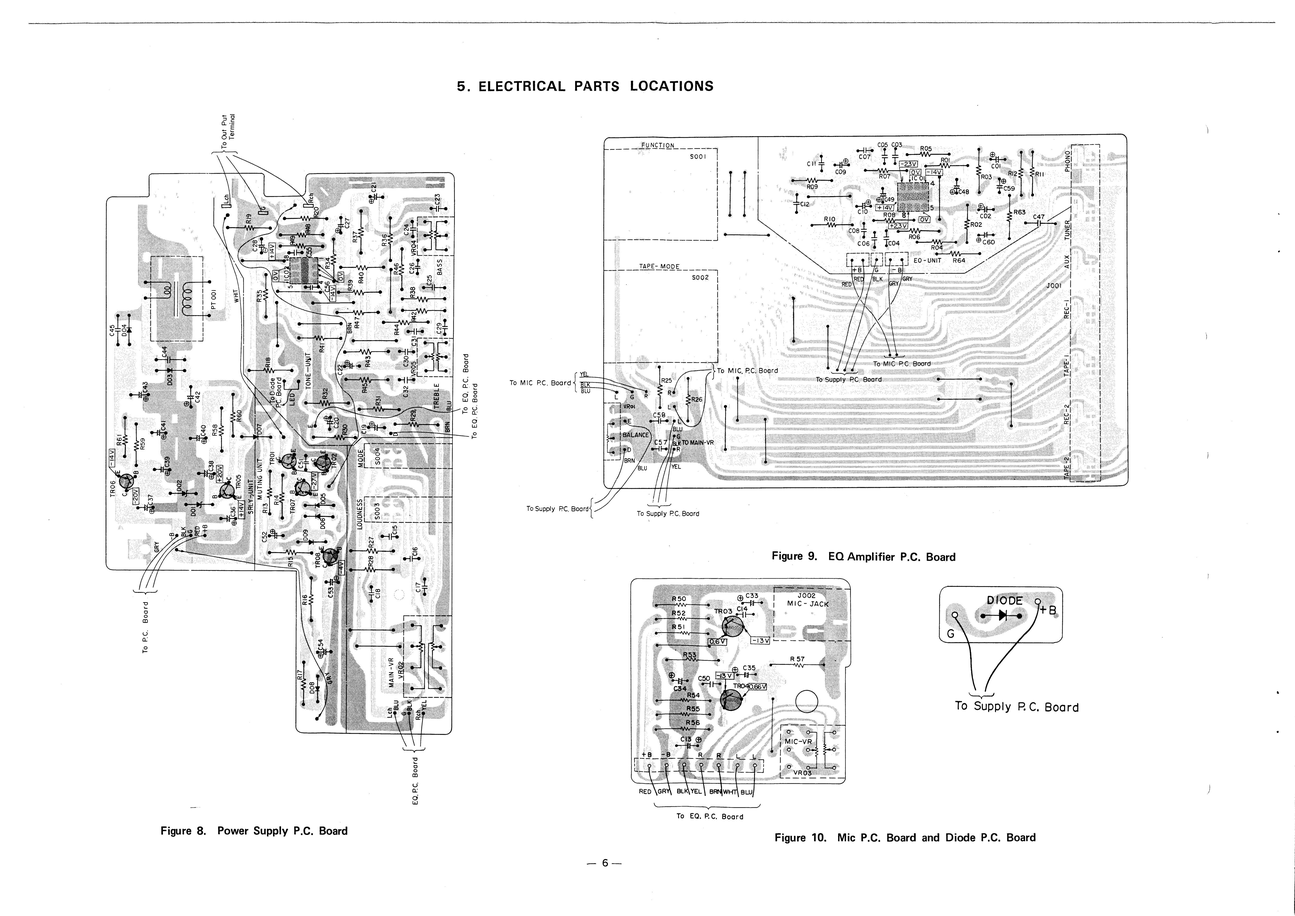C01: (991, 163, 1001, 169)
C02: (980, 212, 992, 219)
C03: (891, 141, 904, 148)
C04: (888, 239, 900, 247)
C05: (877, 141, 888, 148)
C06: (857, 239, 870, 247)
C07: (859, 153, 872, 160)
C08: (847, 228, 860, 234)
C09: (834, 169, 847, 176)
C10: (856, 209, 869, 215)
C11: (806, 159, 817, 167)
C12: (799, 200, 810, 207)
C13: (680, 735, 692, 743)
C14: (736, 605, 748, 612)
C15: (391, 524, 398, 535)
C16: (411, 546, 418, 557)
C17: (414, 581, 422, 593)
C18: (375, 588, 381, 600)
C19: (360, 423, 367, 435)
C20: (333, 417, 340, 429)
C21: (370, 182, 377, 193)
C22: (337, 364, 344, 376)
C23: (434, 193, 440, 206)
C24: (403, 223, 410, 236)
C25: (425, 273, 432, 286)
C26: (408, 262, 415, 275)
C27: (344, 217, 350, 229)
C28: (251, 239, 258, 252)
C29: (435, 322, 442, 335)
C30: (403, 355, 408, 369)
C31: (410, 335, 417, 347)
C32: (403, 385, 409, 399)
C33: (746, 592, 760, 599)
C34: (672, 685, 688, 692)
C35: (742, 664, 758, 672)
C36: (230, 506, 236, 517)
C37: (147, 493, 155, 505)
C38: (208, 460, 215, 472)
C39: (164, 455, 171, 468)
C40: (200, 424, 206, 437)
C41: (160, 420, 167, 431)
C42: (194, 390, 201, 404)
C43: (141, 381, 148, 393)
C44: (161, 345, 168, 357)
C45: (108, 324, 116, 337)
C47: (1033, 214, 1045, 220)
C48: (958, 188, 970, 196)
C49: (884, 195, 895, 203)
C50: (696, 675, 711, 682)
C51: (298, 458, 304, 469)
C52: (261, 531, 268, 543)
C53: (327, 587, 333, 599)
C54: (318, 637, 323, 651)
C55: (305, 246, 313, 258)
C56: (323, 280, 330, 293)
C57: (654, 438, 668, 447)
C58: (653, 412, 666, 419)
C59: (1003, 184, 1016, 192)
C60: (982, 239, 995, 246)
D01: (190, 506, 196, 517)
D02: (177, 479, 182, 492)
D03: (166, 373, 173, 387)
D04: (121, 323, 128, 337)
D05: (319, 492, 326, 505)
D06: (319, 518, 326, 531)
D07: (256, 423, 262, 436)
D08: (309, 681, 315, 695)
D09: (302, 528, 309, 542)
DIODE: (986, 594, 1024, 606)
IC01: (910, 175, 925, 183)
IC02: (282, 266, 290, 282)
J001: (1046, 280, 1063, 290)
J002: (798, 592, 819, 599)
Lch: (385, 707, 392, 720), (222, 193, 230, 204)
PT001: (209, 287, 217, 310)
R01: (940, 157, 951, 163)
R02: (970, 221, 983, 228)
R03: (980, 173, 993, 181)
R04: (931, 245, 943, 251)
R05: (919, 145, 933, 152)
R06: (908, 234, 921, 240)
R07: (878, 173, 891, 179)
R08: (883, 212, 896, 218)
R09: (806, 183, 819, 191)
R10: (823, 216, 836, 222)
R11: (1035, 172, 1044, 178)
R12: (1007, 171, 1018, 176)
R13: (261, 503, 269, 514)
R14: (273, 495, 279, 506)
R15: (287, 555, 294, 568)
R16: (301, 593, 308, 606)
R17: (296, 669, 304, 681)
R18: (264, 357, 271, 367)
R19: (245, 212, 253, 225)
R20: (313, 206, 320, 219)
R25: (660, 377, 673, 385)
R26: (691, 396, 703, 403)
R27: (368, 535, 374, 548)
R28: (367, 555, 375, 567)
R29: (409, 408, 416, 422)
R30: (341, 423, 348, 436)
R31: (374, 395, 382, 406)
R32: (322, 388, 329, 400)
R34: (325, 256, 331, 270)
R35: (256, 288, 262, 303)
R36: (380, 233, 387, 248)
R37: (352, 230, 358, 244)
R38: (409, 286, 416, 298)
R39: (347, 280, 353, 292)
R40: (357, 271, 365, 284)
R41: (318, 342, 326, 354)
R42: (410, 311, 417, 322)
R43: (364, 356, 371, 368)
R44: (393, 323, 399, 337)
R45: (361, 383, 368, 394)
R46: (393, 262, 399, 275)
R47: (353, 315, 360, 329)
R48: (305, 223, 311, 235)
R49: (289, 234, 296, 245)
R50: (670, 595, 687, 602)
R51: (670, 622, 686, 631)
R52: (669, 609, 686, 617)
R53: (683, 651, 697, 658)
R54: (687, 692, 701, 699)
R55: (685, 705, 701, 712)
R56: (686, 718, 701, 727)
R57: (789, 656, 805, 662)
R58: (212, 424, 218, 437)
R59: (140, 437, 145, 451)
R60: (235, 409, 242, 423)
R61: (116, 434, 122, 447)
R63: (1013, 209, 1027, 216)
R64: (953, 257, 966, 263)
Rch: (308, 191, 315, 204), (416, 709, 420, 721)
S001: (689, 153, 708, 161)
S002: (690, 273, 711, 281)
S003: (372, 502, 382, 520)
S004: (373, 447, 382, 465)
TR01: (268, 450, 275, 466)
TR02: (329, 453, 338, 470)
TR03: (713, 606, 734, 615)
TR05: (234, 474, 242, 490)
TR06: (108, 480, 116, 498)
TR07: (288, 498, 296, 514)
TR08: (314, 552, 321, 568)
VR02: (397, 660, 403, 680)
VR03: (792, 768, 812, 777)
VR04: (410, 239, 417, 257)
VR05: (410, 361, 416, 377)
